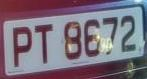2: (119, 11, 138, 56)
6: (82, 14, 104, 64)
7: (100, 12, 121, 57)
8: (62, 15, 85, 68)
P: (9, 20, 35, 75)
T: (33, 19, 58, 70)
